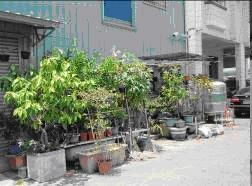box: (76, 142, 128, 173), (26, 147, 66, 181)
water_tower: (204, 81, 227, 123)
